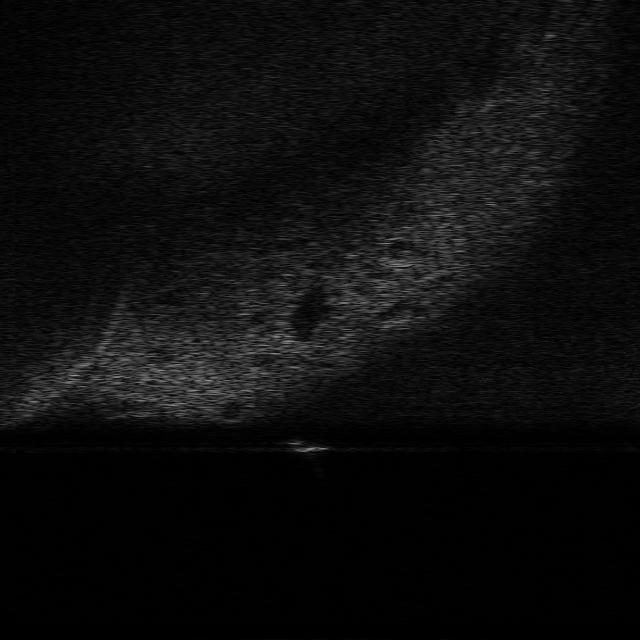cube: (285, 436, 333, 456)
